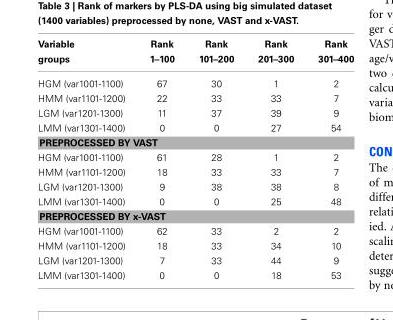table: (37, 37, 353, 280)
table column: (37, 37, 136, 280), (185, 37, 245, 280), (245, 37, 305, 280), (136, 37, 185, 280), (305, 37, 353, 280)
table column header: (37, 37, 353, 70)
table projected row header: (37, 134, 353, 149), (37, 208, 353, 222)
table row: (37, 37, 353, 70), (37, 70, 353, 90), (37, 104, 353, 119), (37, 119, 353, 134), (37, 134, 353, 149), (37, 163, 353, 178), (37, 178, 353, 193), (37, 193, 353, 208), (37, 222, 353, 237), (37, 237, 353, 252), (37, 252, 353, 267), (37, 90, 353, 104), (37, 149, 353, 163), (37, 208, 353, 222), (37, 267, 353, 280)
